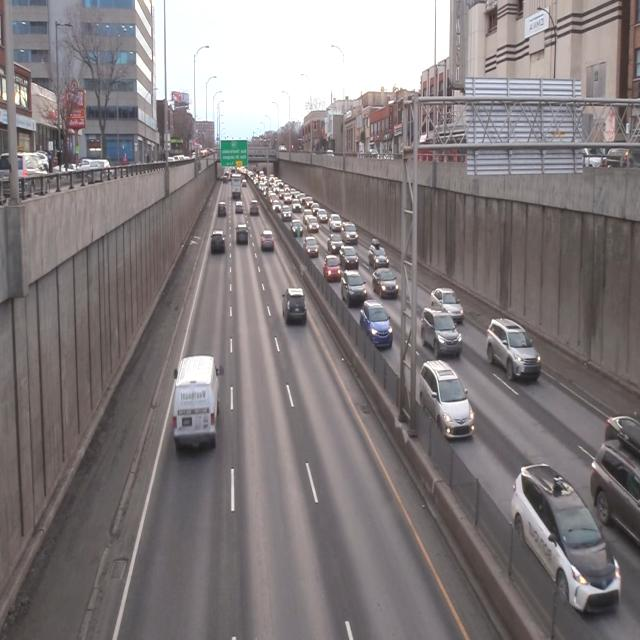Vehicle: (508, 464, 623, 614), (168, 357, 225, 453), (420, 360, 478, 450), (484, 315, 542, 387), (419, 302, 462, 359), (356, 299, 394, 351), (276, 276, 308, 331), (428, 284, 464, 320), (340, 268, 366, 308), (372, 268, 399, 302)
